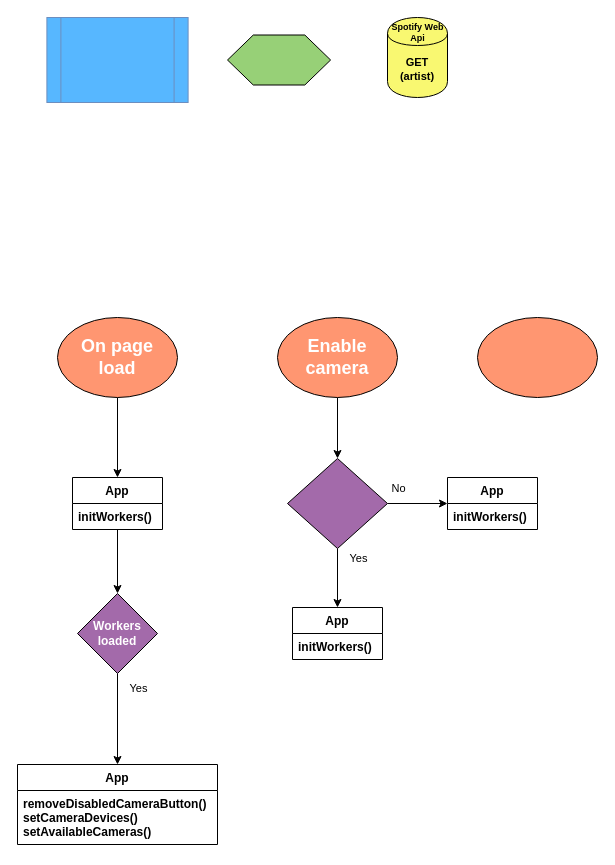
Image size: 615x865. Some labels were removed from this diagram. The centre of each missing label's shape, as x and y in pixels:
App setUserFeedback() Error Artist's could not be loaded: point (117, 59)
Has given permission: point (337, 503)
Sucessful return of token: point (278, 59)
Switch camera: point (537, 357)
